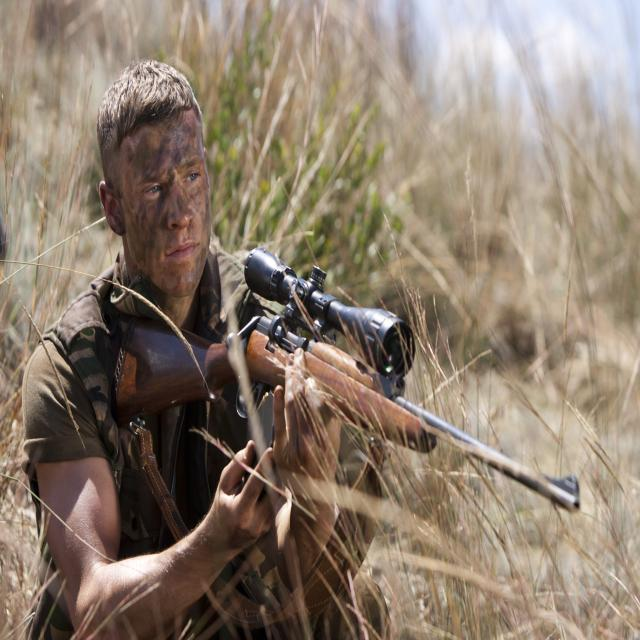rifle: (118, 246, 585, 524)
